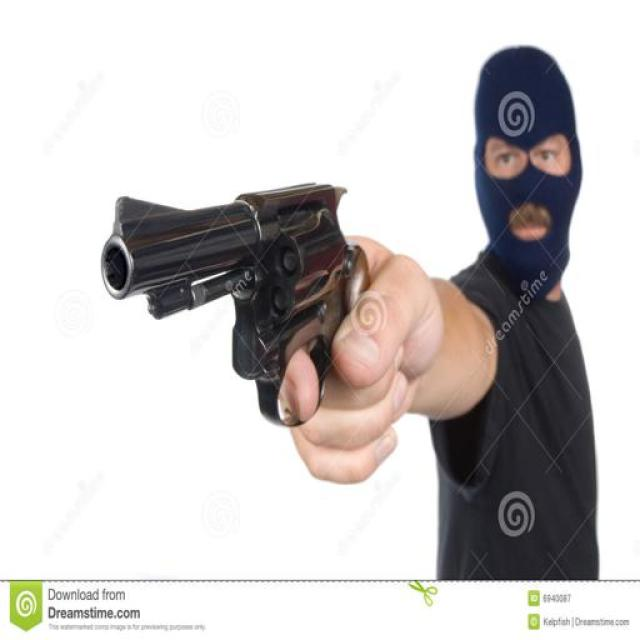pistol: (99, 167, 378, 425)
